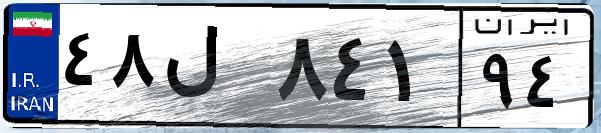1: (385, 28, 445, 110)
4: (330, 28, 385, 110), (57, 26, 110, 100), (525, 38, 570, 115)
8: (270, 28, 330, 110), (110, 28, 158, 98)
9: (475, 38, 525, 113)
ل: (158, 20, 270, 120)
